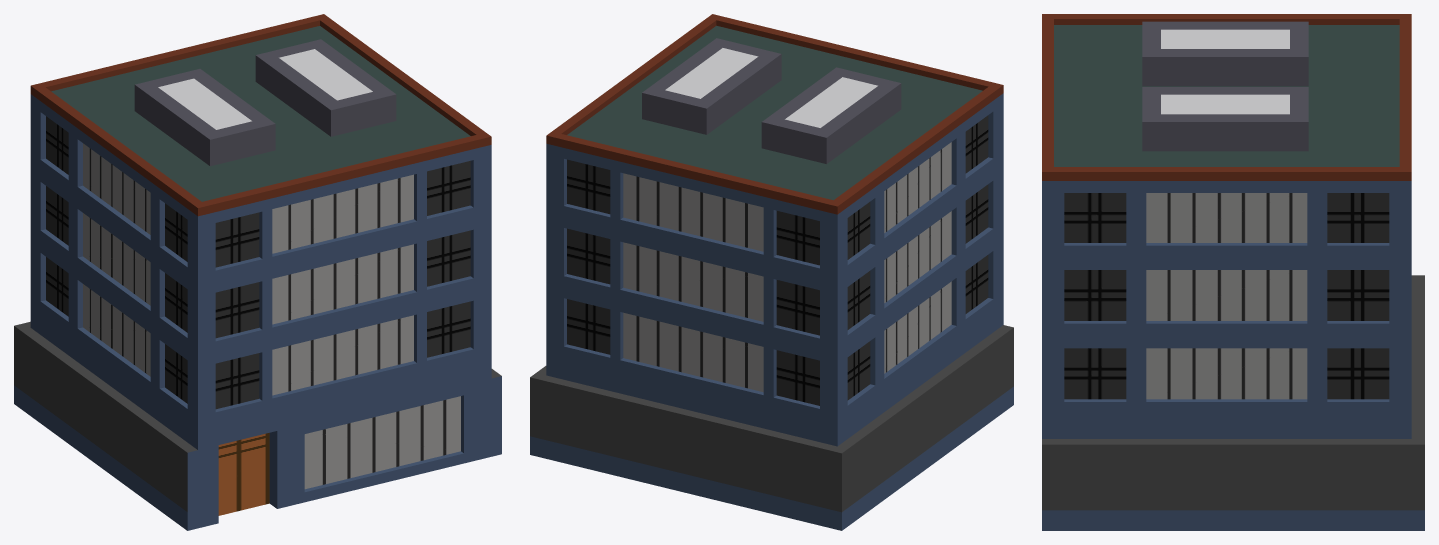
The model's file is building16b.FBX.
3 views of the same model, side by side, from view 1: azimuth 30°, elevation 25°; view 2: azimuth 150°, elevation 25°; view 3: azimuth 270°, elevation 25° (orthographic). The views are drawn at different scales.
Parts seen in each view (by area): view 1: building16b; view 2: building16b; view 3: building16b.
Part boxes in pixels (box(x1,y1,x2,y2)): building16b: box(14, 14, 501, 530); building16b: box(530, 14, 1013, 530); building16b: box(1042, 14, 1424, 530).
Bounding box in the file's own units: 21.4 × 22.19 × 20.45.
